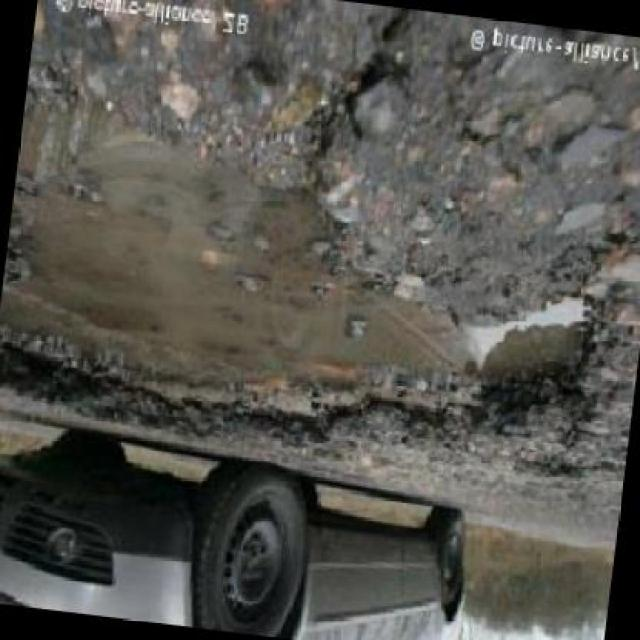pothole1: (0, 59, 637, 498)
